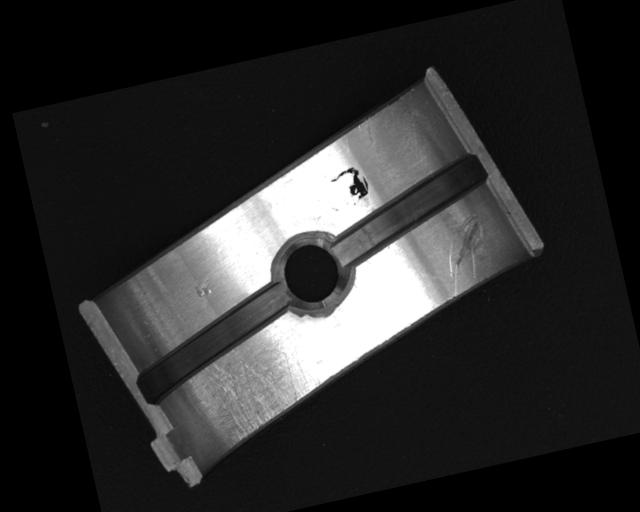blot: (328, 163, 373, 208)
bruise: (190, 277, 214, 299)
gap: (122, 278, 311, 408), (322, 148, 501, 266)
hole: (265, 229, 355, 316)
nick: (432, 210, 497, 298)
scratch: (176, 336, 329, 449)
